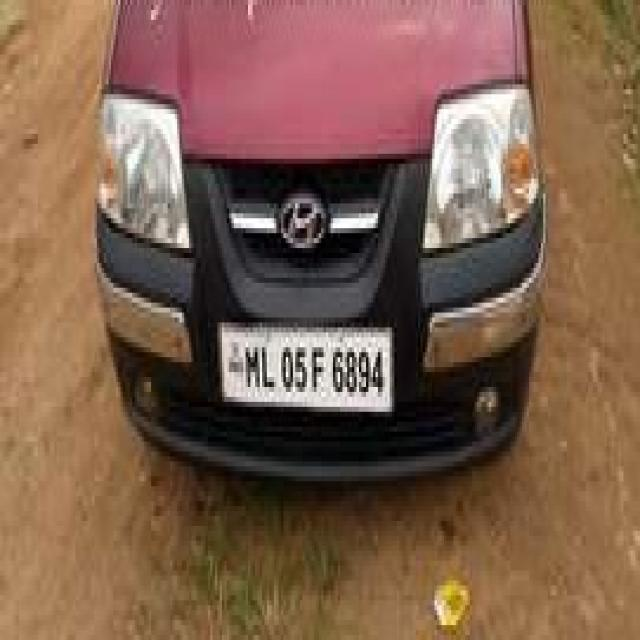Plate: (219, 318, 389, 403)
